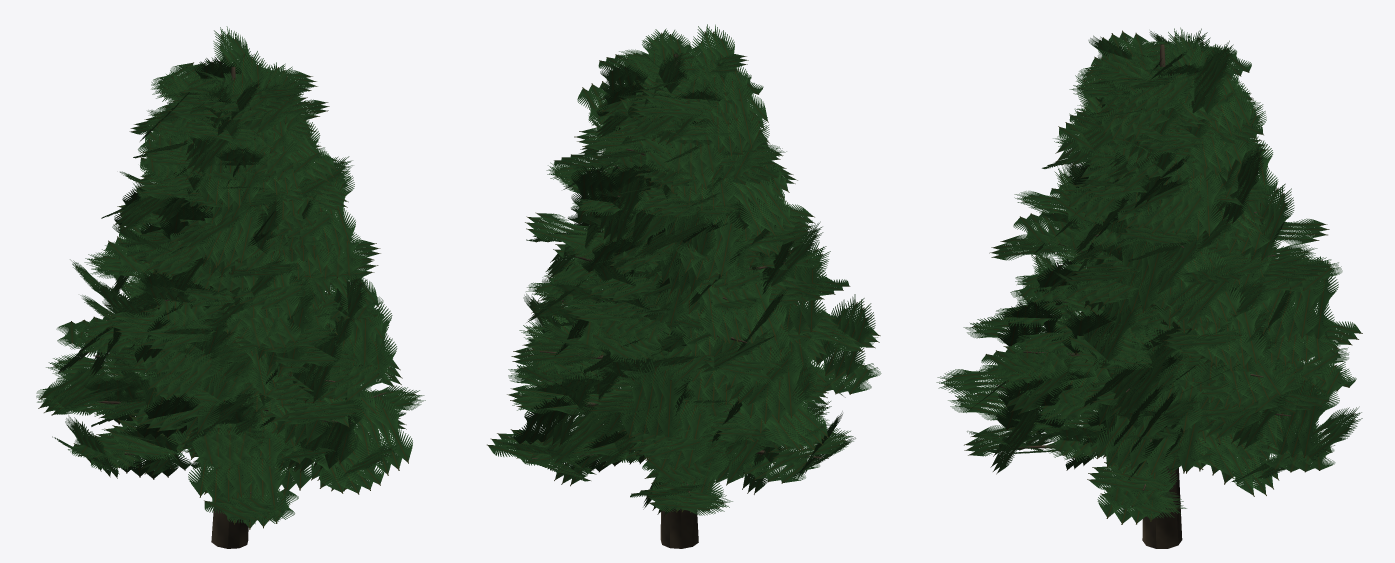
File: tree-pine.glb
The picture shows the model from 3 angles, left to right: view 1: azimuth 30°, elevation 25°; view 2: azimuth 150°, elevation 25°; view 3: azimuth 270°, elevation 25°; orthographic projection. The views are drawn at different scales.
Parts seen in each view (by area): view 1: NeedleSprays, Trunk; view 2: NeedleSprays, Trunk; view 3: NeedleSprays, Trunk.
Part boxes in pixels (bbox=[...]): NeedleSprays: bbox=[36, 26, 425, 529]; Trunk: bbox=[78, 66, 386, 548]; NeedleSprays: bbox=[487, 24, 881, 516]; Trunk: bbox=[532, 53, 828, 548]; NeedleSprays: bbox=[936, 27, 1362, 524]; Trunk: bbox=[996, 44, 1290, 548].
Size of the model in its own units: 2.57 by 3.27 by 2.62.
Materials: 2 (2 with a texture image).
